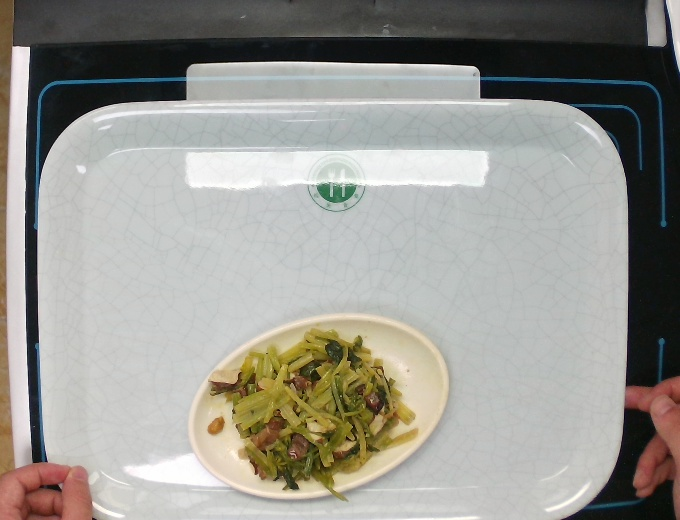JYsf-Tuo_Yuan_Wan: (184, 306, 457, 503)
